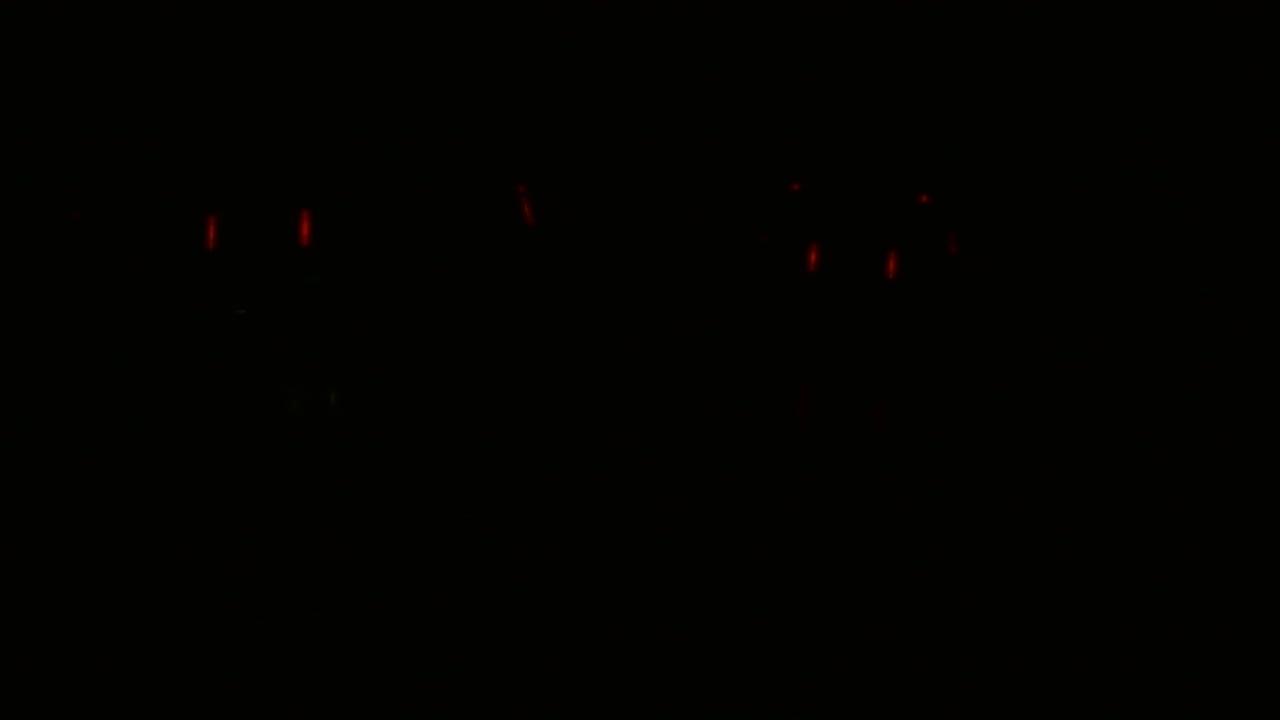pair1: (197, 203, 323, 267)
pair2: (800, 241, 913, 289)
